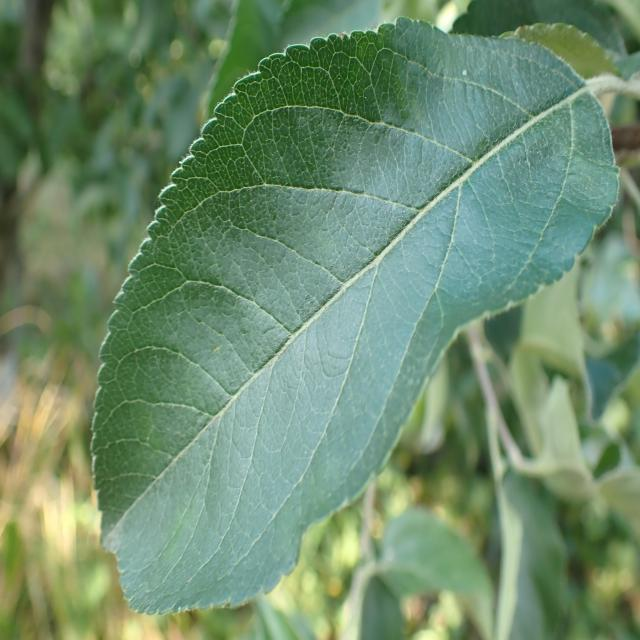healthy: (92, 15, 621, 618)
